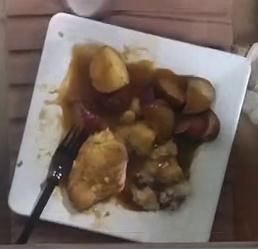pork: (67, 129, 128, 211)
potato: (29, 36, 218, 210)
